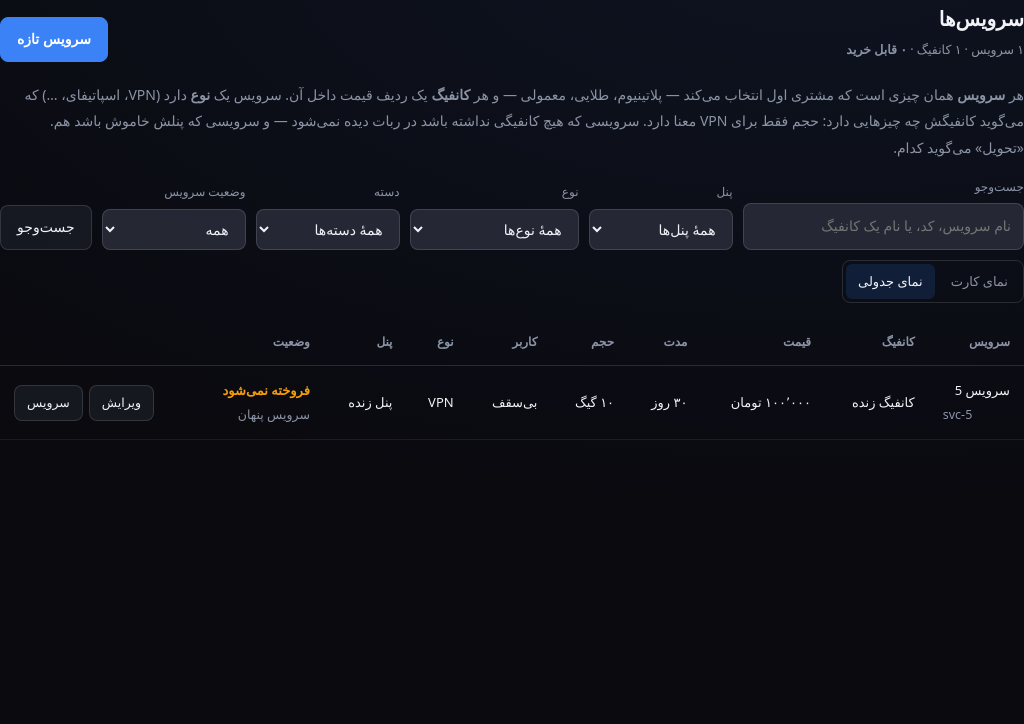
Test case: «نمای جدولی» says what the shop can do with a row › opens the service editor from the row for the fault only the service can fix
Expected: the text "سرویس پنهان" is shown, [238, 406, 310, 423]
Click the button "سرویس" at (48, 403), box [14, 385, 83, 421]
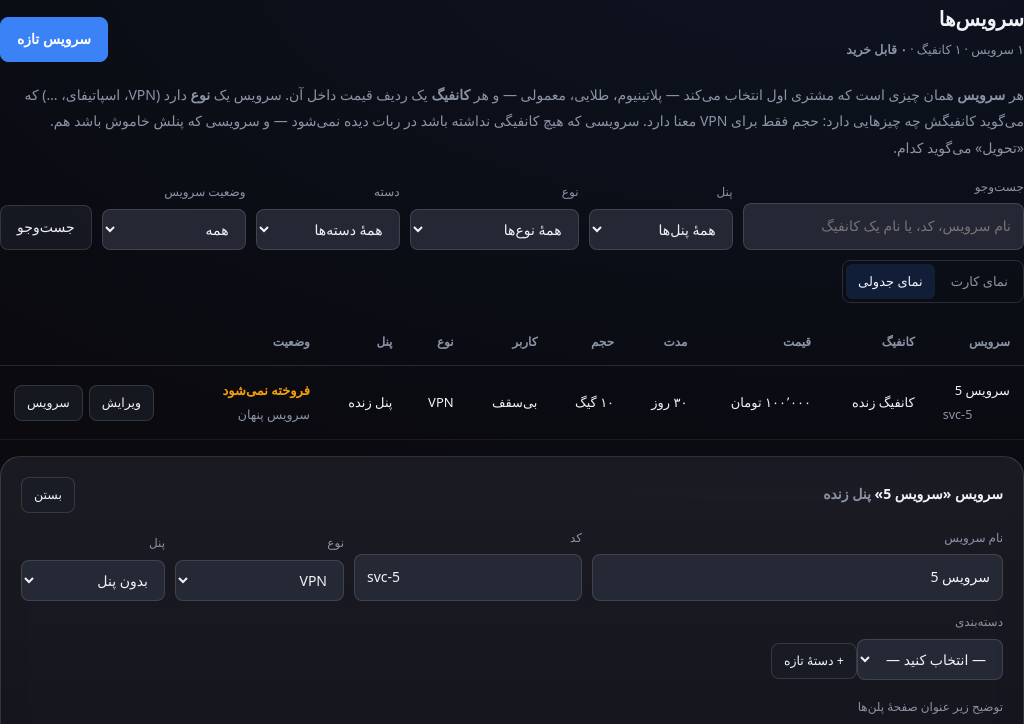
Now the field labelled "نام سرویس" holds "سرویس 5", box [592, 554, 1003, 601]
